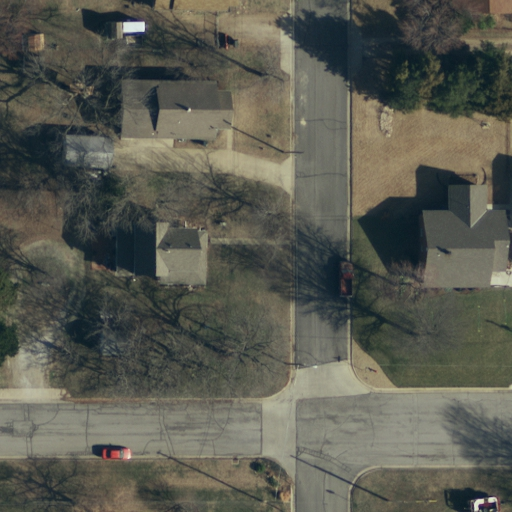DT: (278, 353, 306, 375)
